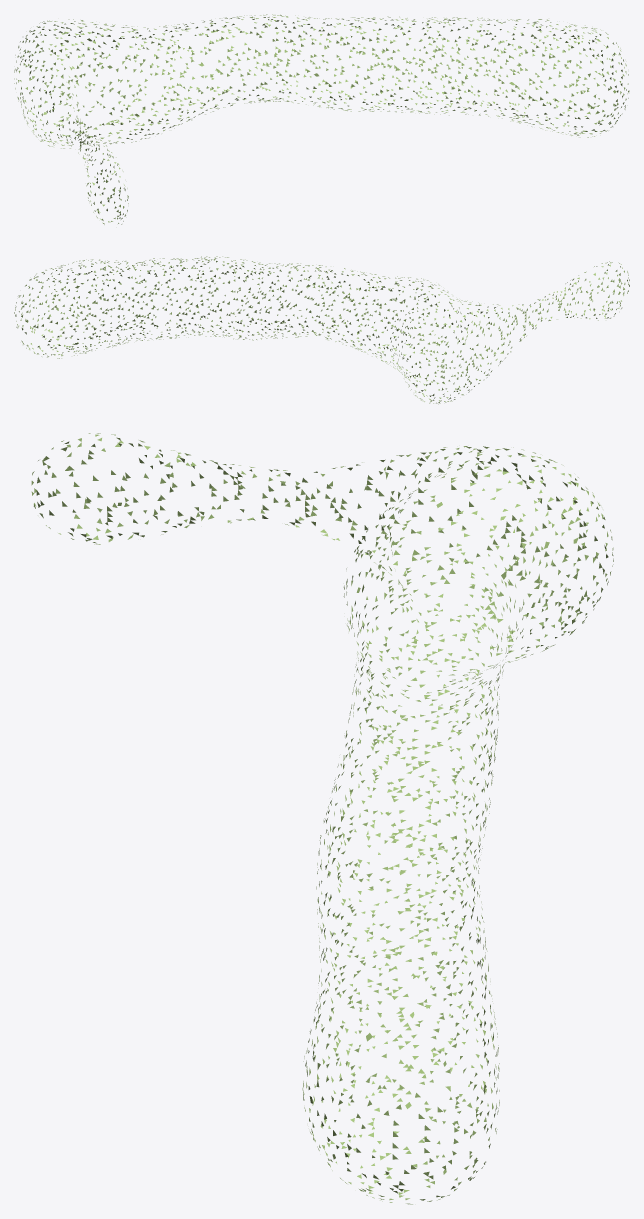
File: morph_012.glb
The picture shows the model from 3 angles, top to bottom: view 1: azimuth 30°, elevation 25°; view 2: azimuth 150°, elevation 25°; view 3: azimuth 270°, elevation 25°; orthographic projection. The views are drawn at different scales.
Bounding box in the file's own units: 137 × 43.73 × 67.29.
